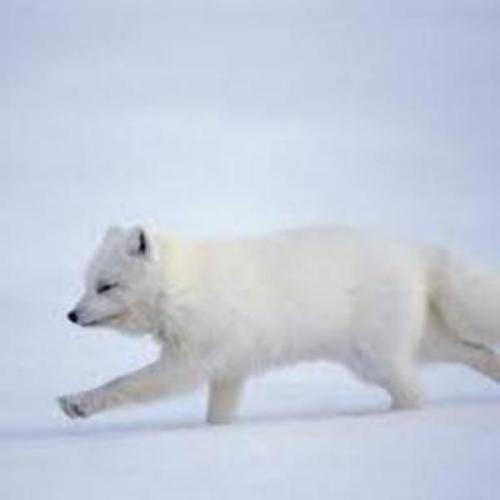arctic_fox-endangered: (54, 221, 500, 424)
